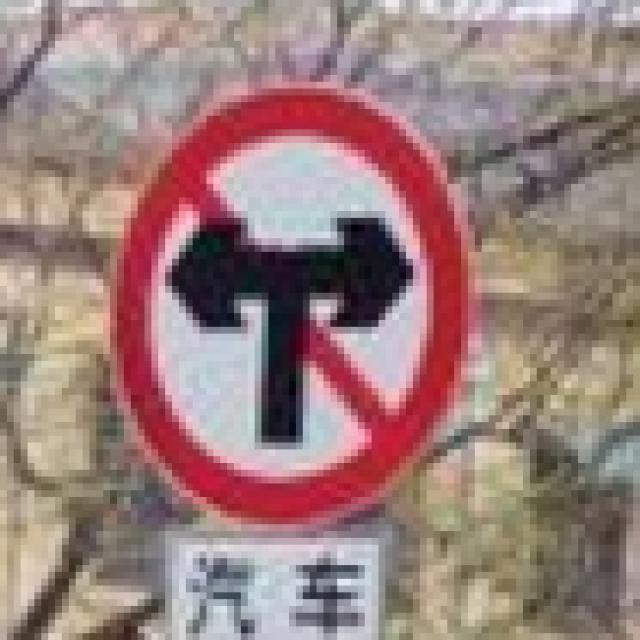Not that Direction: (101, 86, 474, 519)
